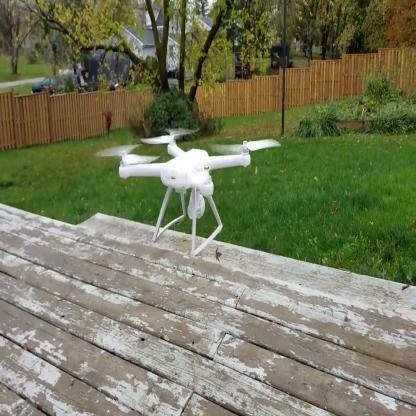drone: (102, 118, 288, 212)
